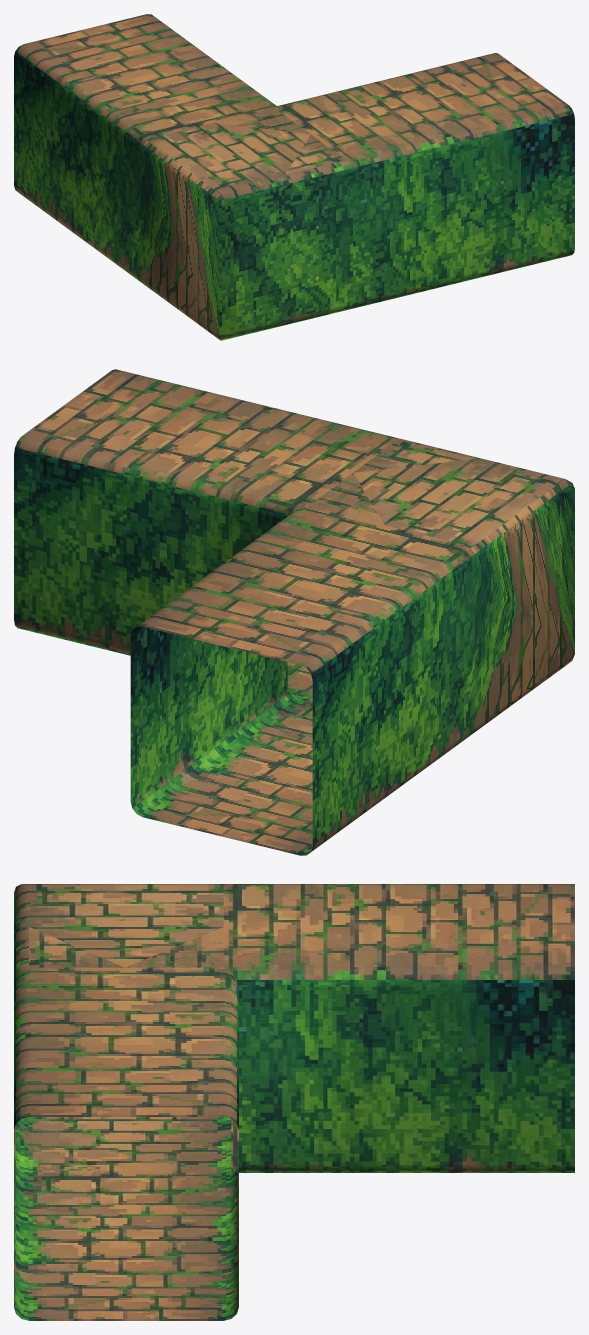
The model's file is newcorridor4.fbx.
3 renders of one model, top to bottom at view 1: azimuth 30°, elevation 25°; view 2: azimuth 150°, elevation 25°; view 3: azimuth 270°, elevation 25°, orthographic. The views are drawn at different scales.
Visible parts, largest first — view 1: Cube; view 2: Cube; view 3: Cube.
Boxes of the visible parts, <box> form: Cube: <box>14,14,574,340</box>; Cube: <box>14,369,574,855</box>; Cube: <box>14,884,574,1320</box>.
Size of the model in its own units: 350 by 140 by 349.
